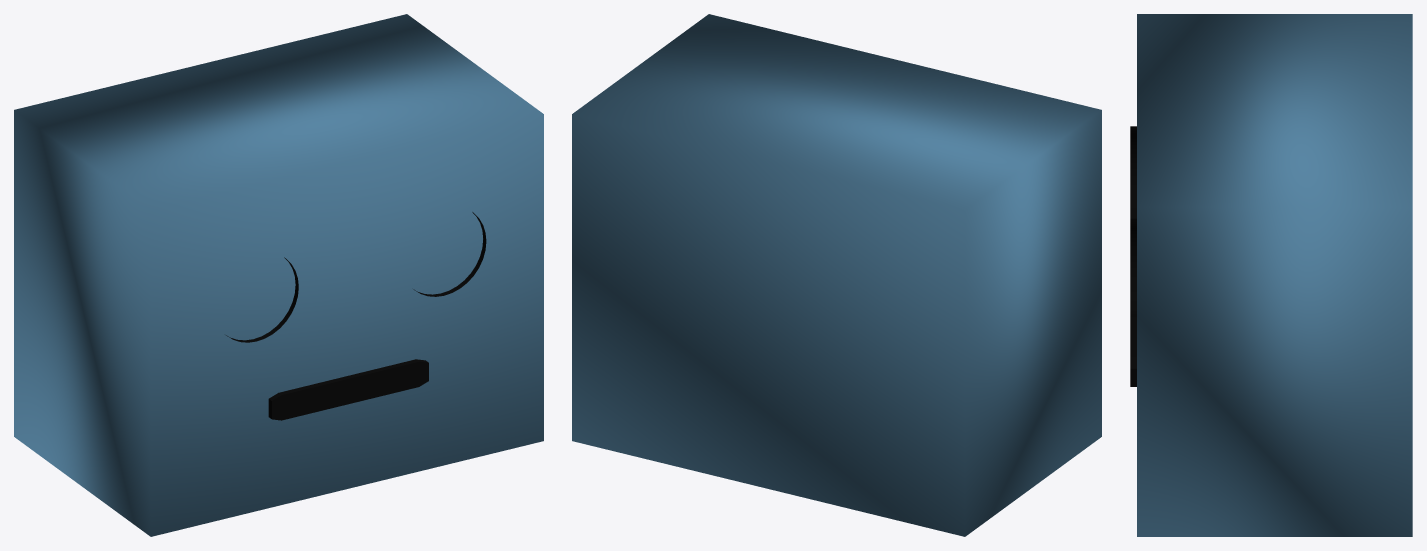
Rendered from test_shapekeys.glb.
3 renders of one model, left to right at view 1: azimuth 30°, elevation 25°; view 2: azimuth 150°, elevation 25°; view 3: azimuth 270°, elevation 25°, orthographic.
Visible parts, largest first — view 1: Cube, Cylinder; view 2: Cube; view 3: Cube, Cylinder.
Part boxes in pixels (bbox=[...]): Cube: bbox=[14, 14, 543, 536]; Cylinder: bbox=[226, 212, 486, 420]; Cube: bbox=[572, 14, 1101, 536]; Cube: bbox=[1137, 14, 1412, 536]; Cylinder: bbox=[1130, 126, 1136, 386].
Bounding box in the file's own units: 9.32 × 7.41 × 5.75.
